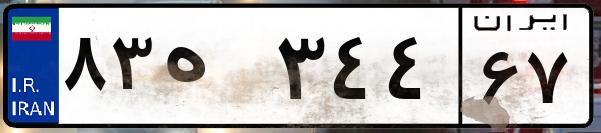3: (270, 28, 330, 110), (110, 28, 158, 98)
4: (385, 28, 445, 110), (330, 28, 385, 110)
6: (475, 38, 525, 113)
7: (525, 38, 570, 115)
8: (57, 26, 110, 100)
ه: (158, 20, 270, 120)
